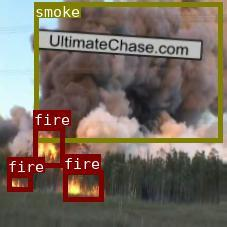fire: (32, 126, 64, 167), (62, 170, 102, 200), (6, 173, 32, 190)
smoke: (33, 2, 221, 141)
